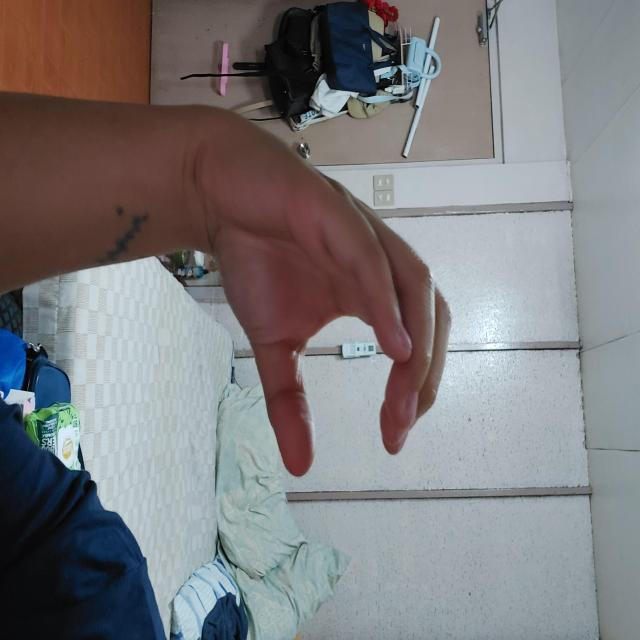C: (109, 188, 477, 444)
